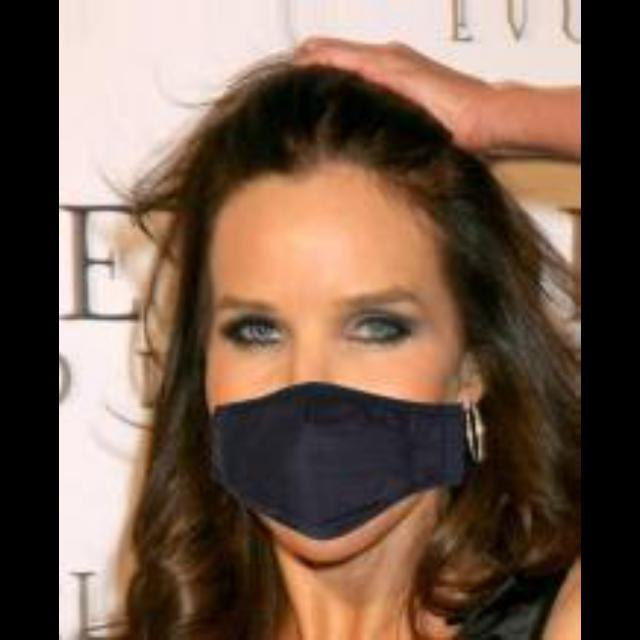suspicion: (154, 132, 516, 566)
